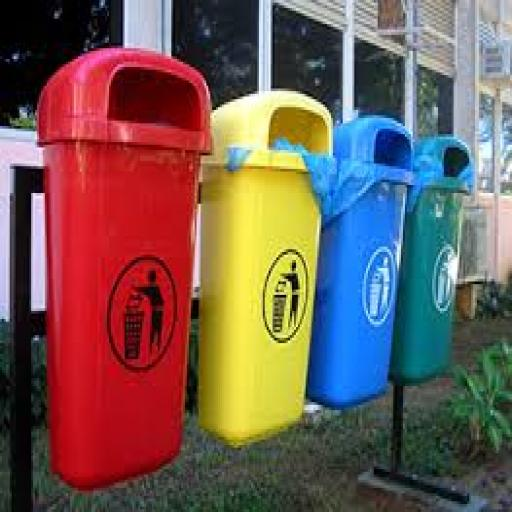poubelle_vide: (16, 4, 210, 502), (316, 44, 436, 408)
